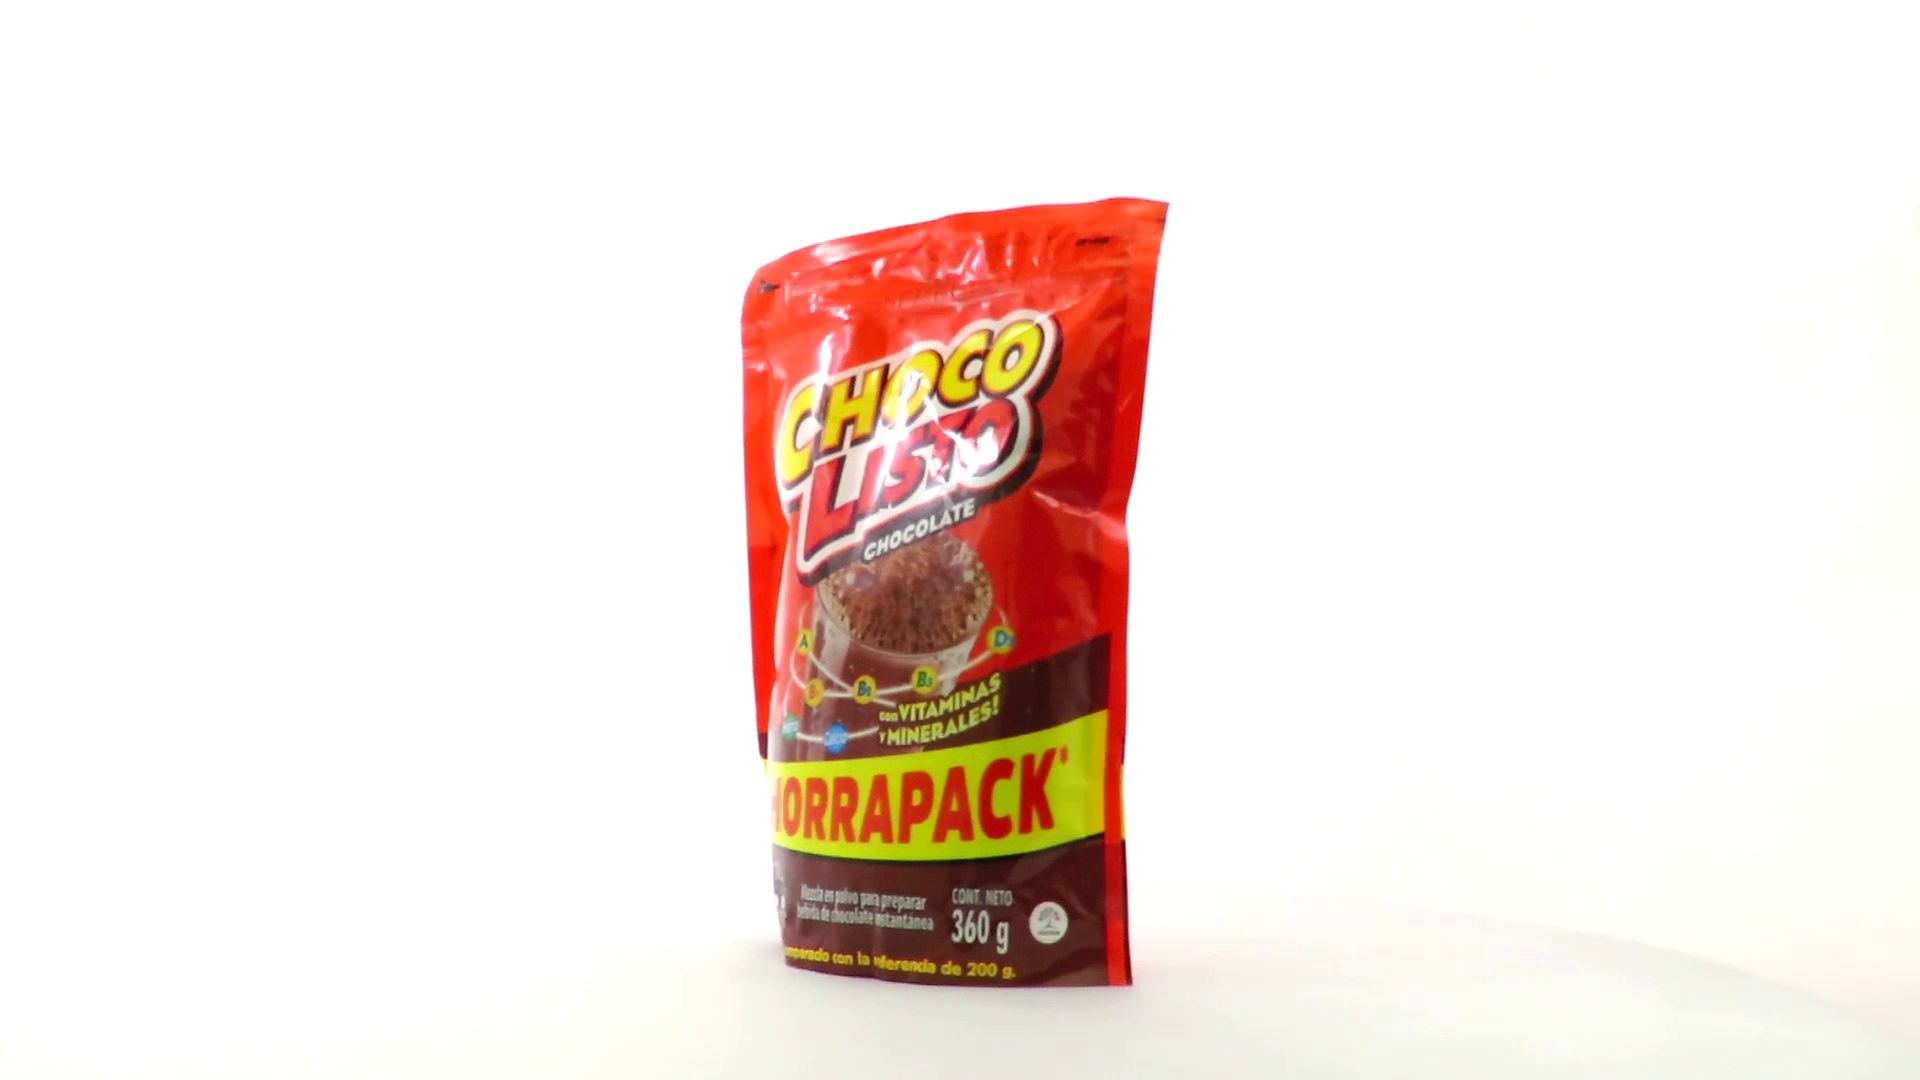COL0170103DYP36000: (735, 191, 1176, 996)
